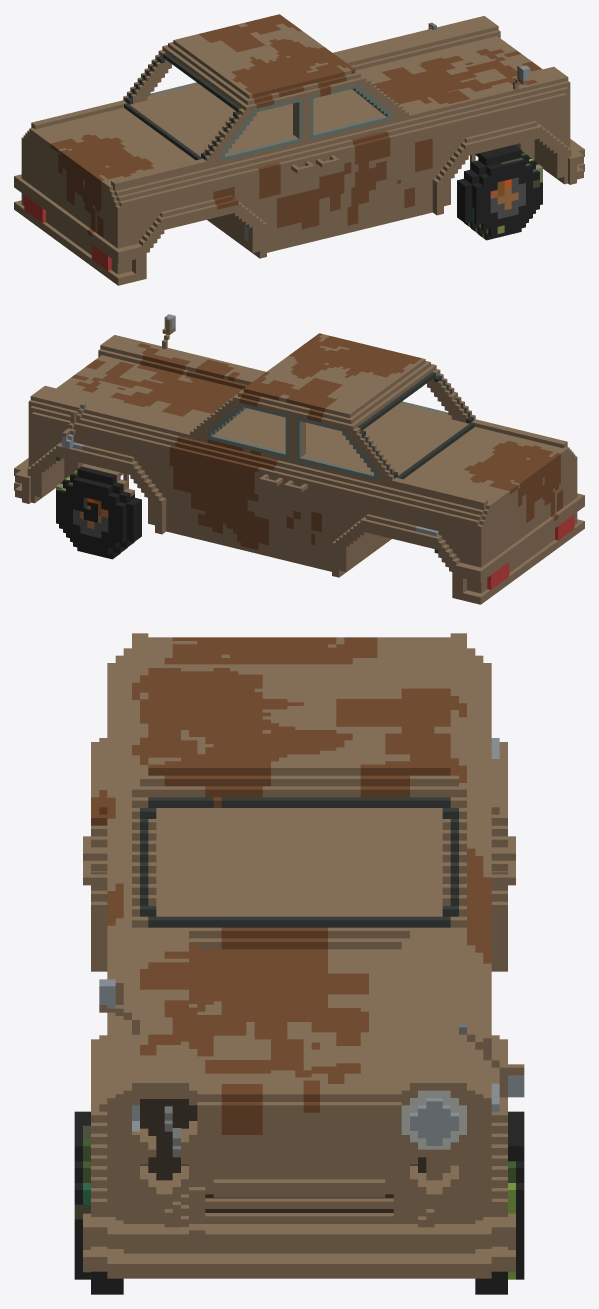
Rendered from car2.FBX.
3 renders of one model, top to bottom at view 1: azimuth 30°, elevation 25°; view 2: azimuth 150°, elevation 25°; view 3: azimuth 270°, elevation 25°, orthographic. The views are drawn at different scales.
Parts seen in each view (by area): view 1: default; view 2: default; view 3: default.
Part boxes in pixels (x1,y1,x2,y2): default: [14, 14, 584, 285]; default: [14, 314, 584, 604]; default: [74, 633, 524, 1294].
Size of the model in its own units: 13.4 by 5.1 by 5.5.
Materials: 1 (1 with a texture image).
